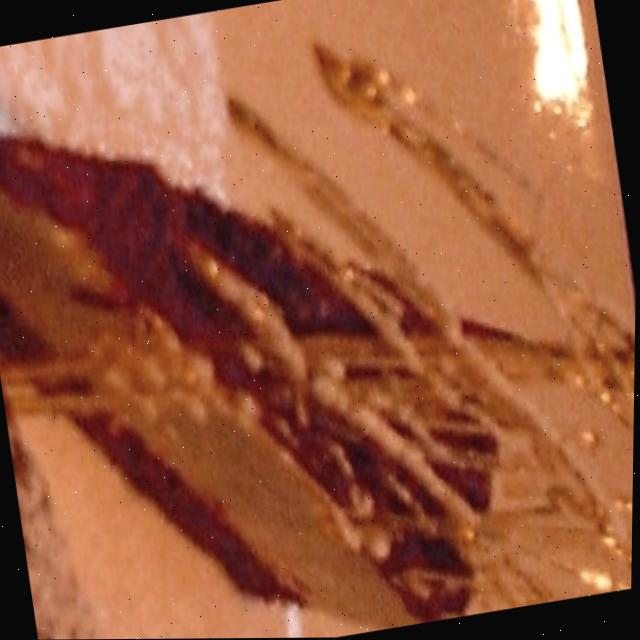蛋糕甜品: (0, 43, 581, 640)
